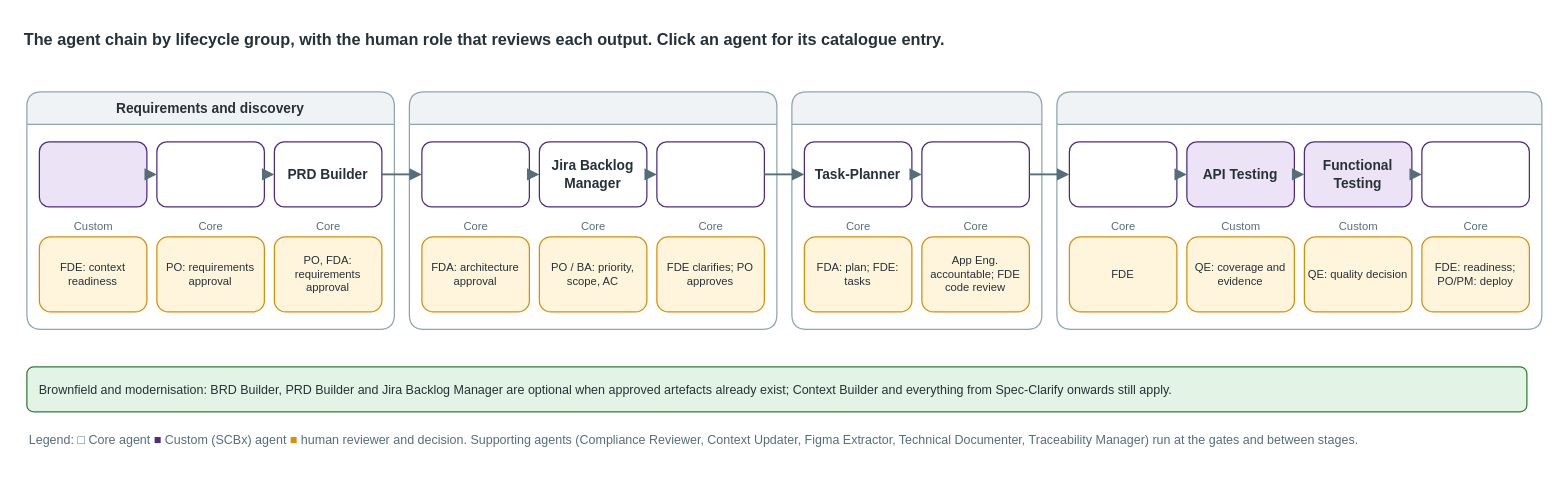
Some shapes in this 1564 by 485 pixel diagram are drawn without their labels. The box of each missing label's shape, as (x1, y1, x2, y2) in pixels:
ADR Creation: (421, 141, 529, 207)
Azure-Deploy: (1421, 141, 1529, 207)
BRD Builder: (156, 141, 264, 207)
Code Review: (1068, 141, 1177, 207)
Context Builder: (38, 141, 147, 207)
Design, backlog and spec: (408, 91, 777, 329)
Plan and build: (791, 91, 1042, 329)
Quality and release: (1056, 91, 1542, 329)
Spec-Clarify: (656, 141, 764, 207)
Task-Implementor: (921, 141, 1029, 207)
